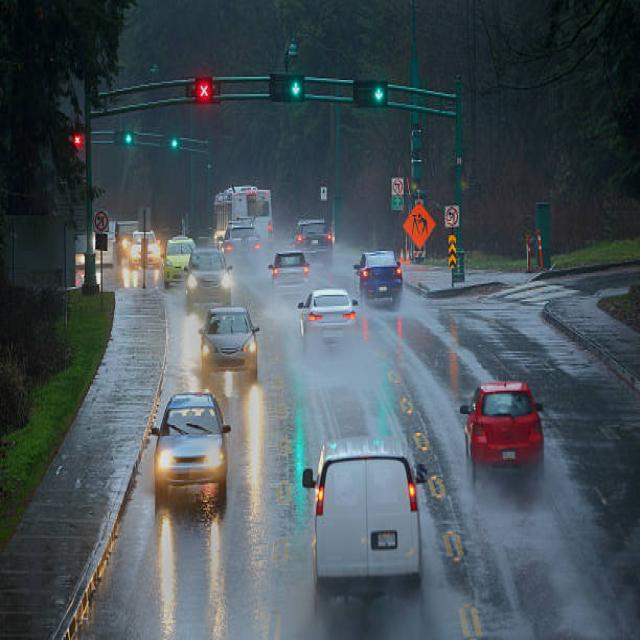Vehicle: (290, 412, 427, 592), (448, 365, 557, 495), (148, 384, 237, 524), (186, 307, 268, 373), (291, 284, 357, 359), (358, 231, 412, 310), (178, 243, 235, 303), (293, 215, 342, 247), (262, 253, 312, 284)
